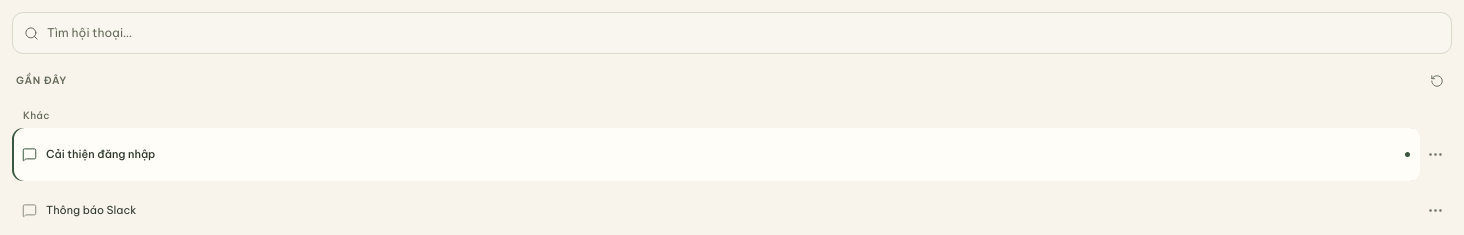
Test: SidebarHistory Component › searches Vietnamese titles without accents and clears without changing the open conversation
Check: the text "Cải thiện đăng nhập" is shown, box [46, 147, 155, 161]
Step 1. Type "DANG NHAP" into the search field labelled "Tìm hội thoại" → [744, 33], box [47, 13, 1440, 53]
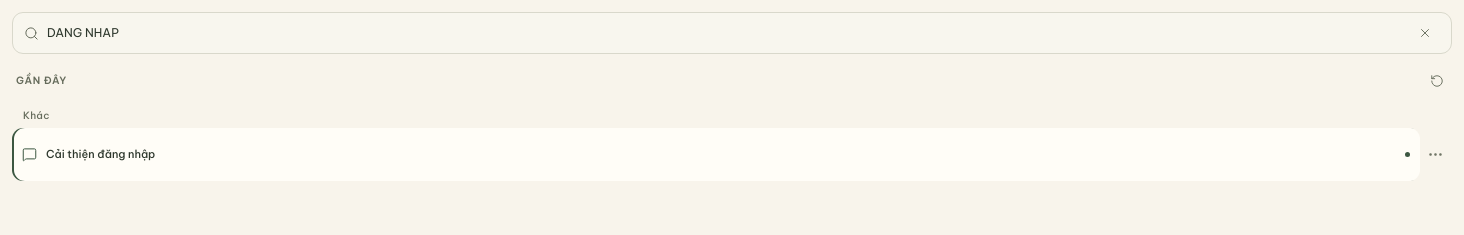
Check: the button "Thông báo Slack" is gone
Step 2. Replace the text in the search field named "Tìm hội thoại" with "không tìm thấy" → [724, 33], box [47, 13, 1402, 53]
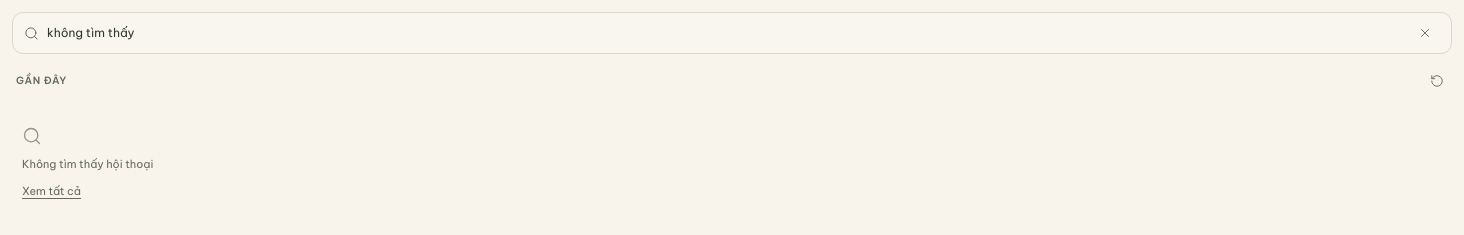
Check: the text "Không tìm thấy hội thoại" is shown, box [22, 157, 153, 171]
Step 3. Click the button named "Xóa tìm kiếm" → [1425, 33], box [1410, 18, 1440, 48]
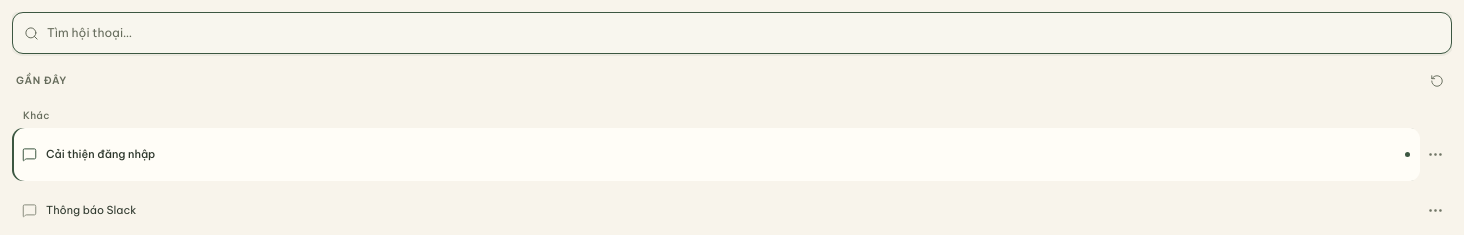
Check: the text "Thông báo Slack" is shown, box [46, 203, 136, 217]
